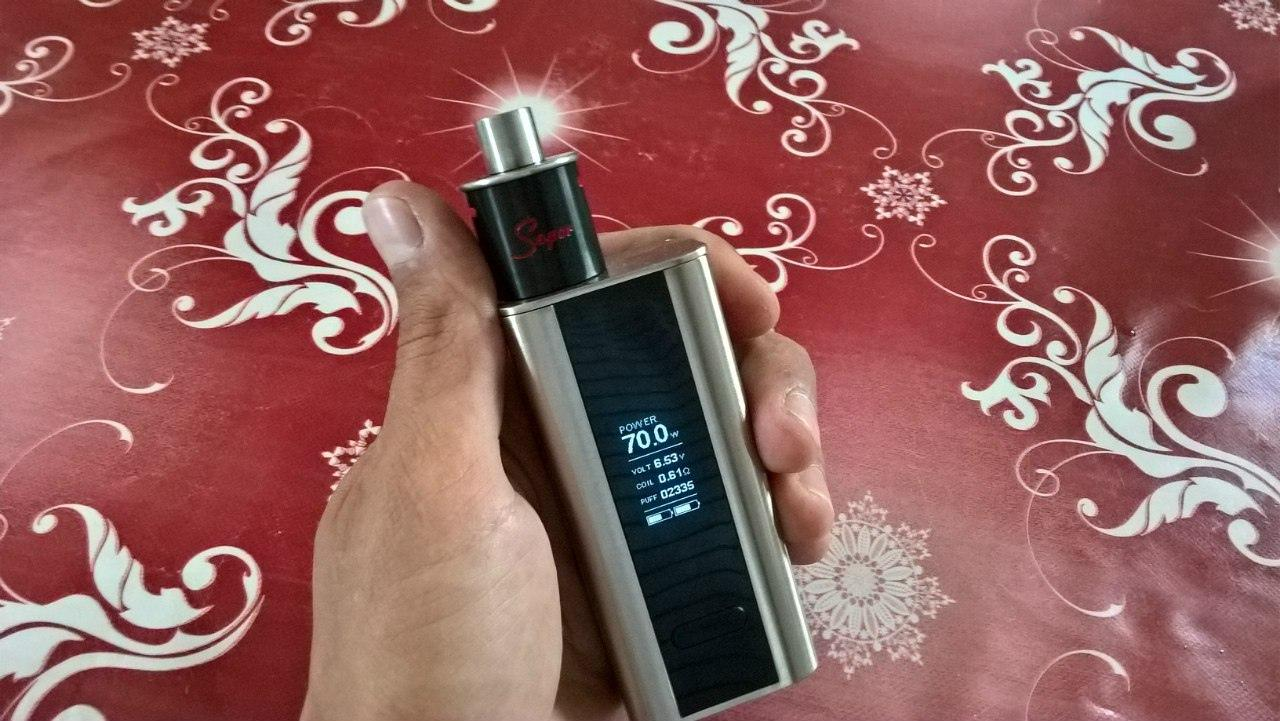Vape: (461, 107, 815, 720)
